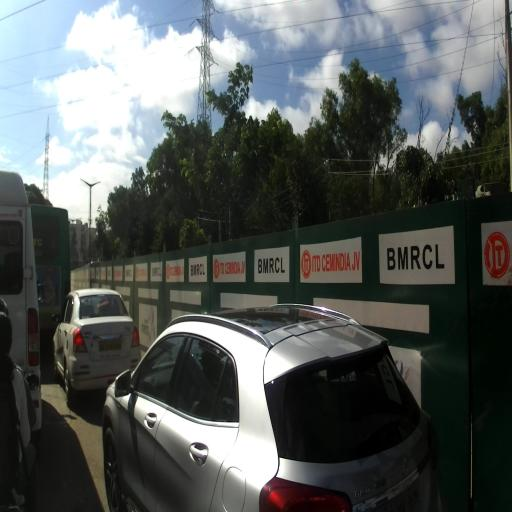street_light_0: (80, 179, 91, 189), (90, 181, 101, 189), (72, 217, 82, 224)
